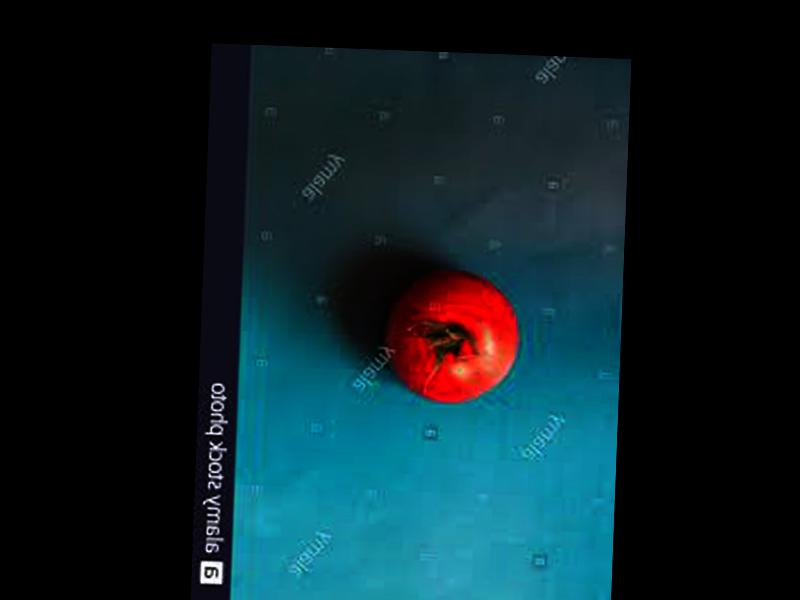Tomato: (381, 269, 522, 405)
